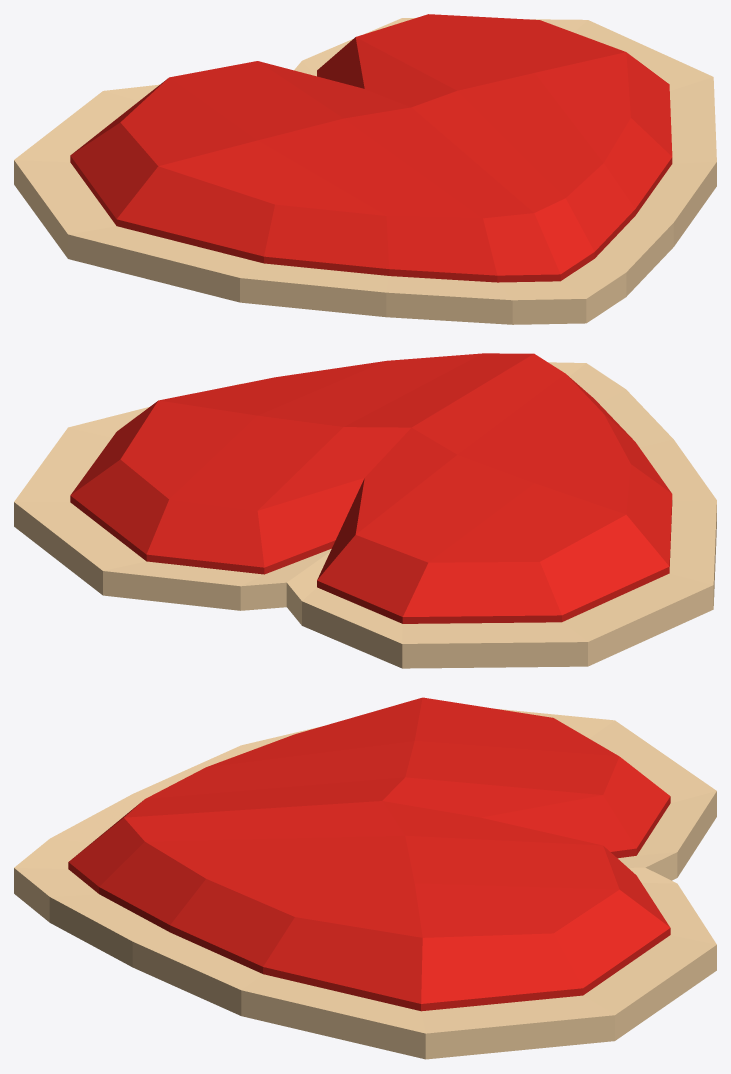
Rendered from Heart.glb.
3 renders of one model, top to bottom at view 1: azimuth 30°, elevation 25°; view 2: azimuth 150°, elevation 25°; view 3: azimuth 270°, elevation 25°, orthographic. The views are drawn at different scales.
Visible parts, largest first — view 1: Heart, Socle; view 2: Heart, Socle; view 3: Heart, Socle.
Boxes of the visible parts, bbox=[...] form: Heart: bbox=[70, 14, 672, 282]; Socle: bbox=[14, 18, 716, 324]; Heart: bbox=[70, 353, 672, 623]; Socle: bbox=[14, 362, 716, 668]; Heart: bbox=[68, 697, 670, 1011]; Socle: bbox=[14, 708, 716, 1059].
Size of the model in its own units: 3.26 by 0.4243 by 2.92.
